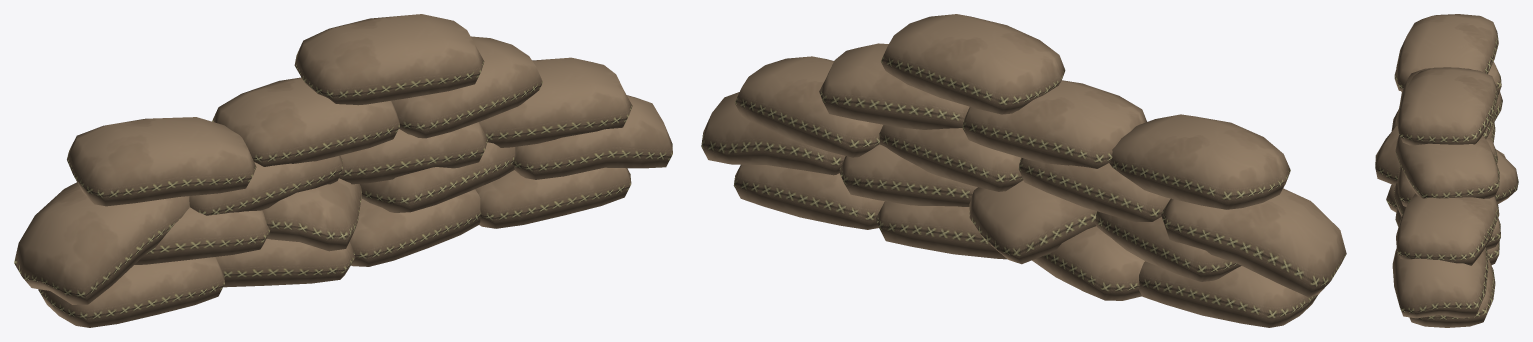
File: Bags4.fbx
3 views of the same model, side by side, from view 1: azimuth 30°, elevation 25°; view 2: azimuth 150°, elevation 25°; view 3: azimuth 270°, elevation 25° (orthographic). The views are drawn at different scales.
Visible parts, largest first — view 1: polySurface1237; view 2: polySurface1237; view 3: polySurface1237.
Part boxes in pixels (left/top/right/bottom): polySurface1237: left=14, top=14, right=672, bottom=327; polySurface1237: left=701, top=14, right=1346, bottom=327; polySurface1237: left=1375, top=14, right=1518, bottom=327.
Size of the model in its own units: 338 by 109 by 85.71.
